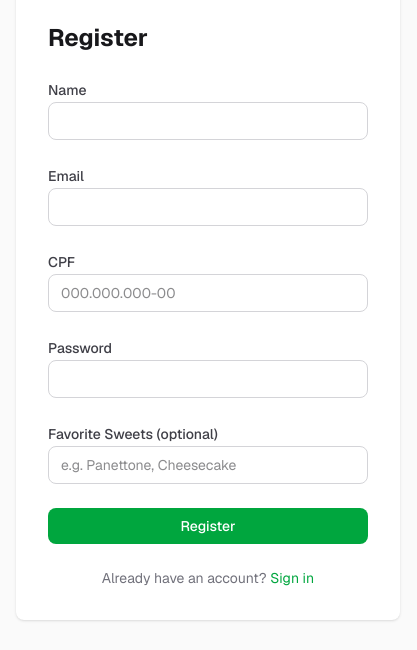
Test: RegisterPage › validates CPF format
Type "John" into the field labelled "Name" at (208, 121), box [48,102,368,140]
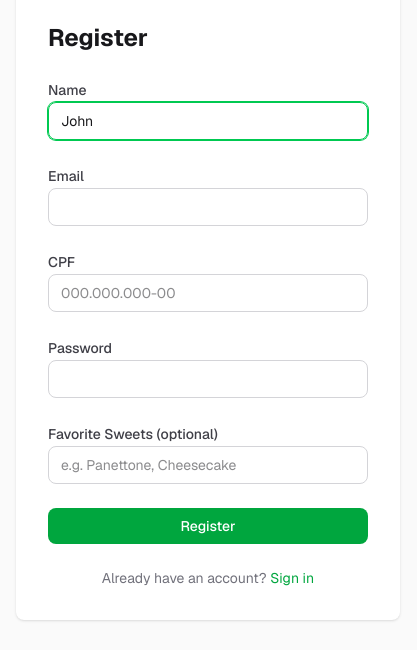
Type "john@test.com" into the field labelled "Email" at (208, 207), box [48,188,368,226]
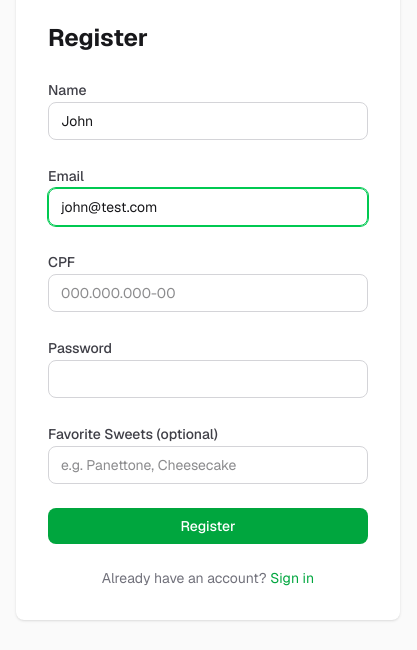
Type "12345678901" into the field labelled "CPF" at (208, 293), box [48,274,368,312]
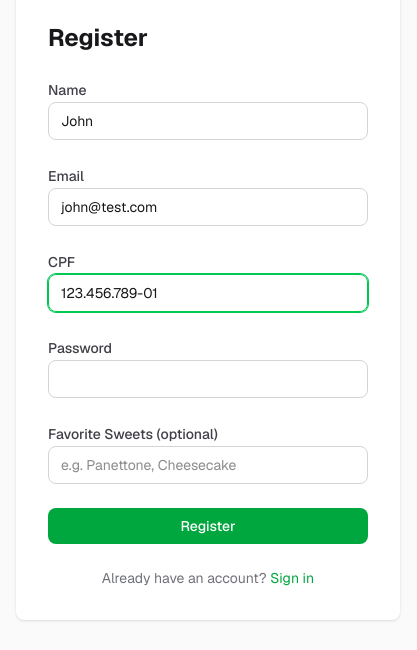
Type "password123" into the password field labelled "Password" at (208, 379), box [48,360,368,398]
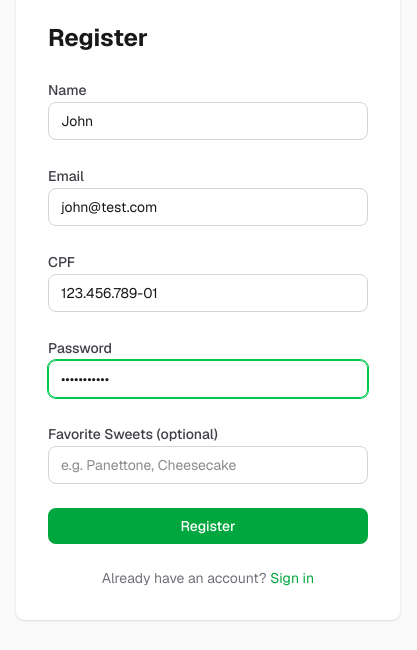
Click the button "Register" at (208, 526), box [48,508,368,544]
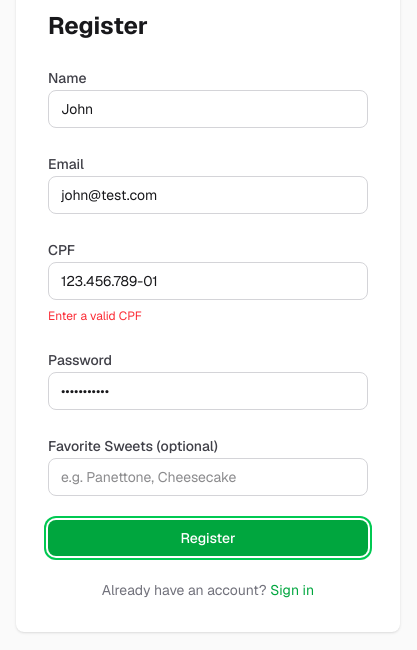
Result: the text "Enter a valid CPF" is shown at [48,308,142,324]
